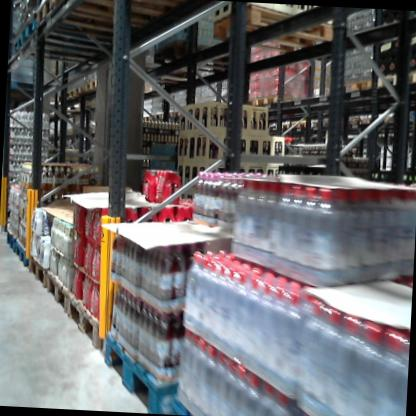pallet: (94, 322, 208, 412), (204, 4, 350, 61), (32, 0, 162, 50), (20, 14, 143, 62), (13, 30, 123, 72), (42, 0, 196, 23), (59, 284, 106, 350), (37, 262, 75, 320), (372, 63, 416, 102), (256, 89, 305, 110), (23, 253, 49, 291), (336, 76, 375, 97), (11, 232, 29, 276), (358, 111, 395, 132), (63, 86, 99, 104), (3, 225, 16, 250), (309, 114, 328, 131), (340, 113, 362, 127), (85, 74, 100, 93), (71, 80, 86, 99), (270, 117, 291, 130), (291, 114, 308, 130), (173, 109, 189, 120), (159, 109, 172, 121), (150, 112, 161, 121), (140, 114, 151, 122)
